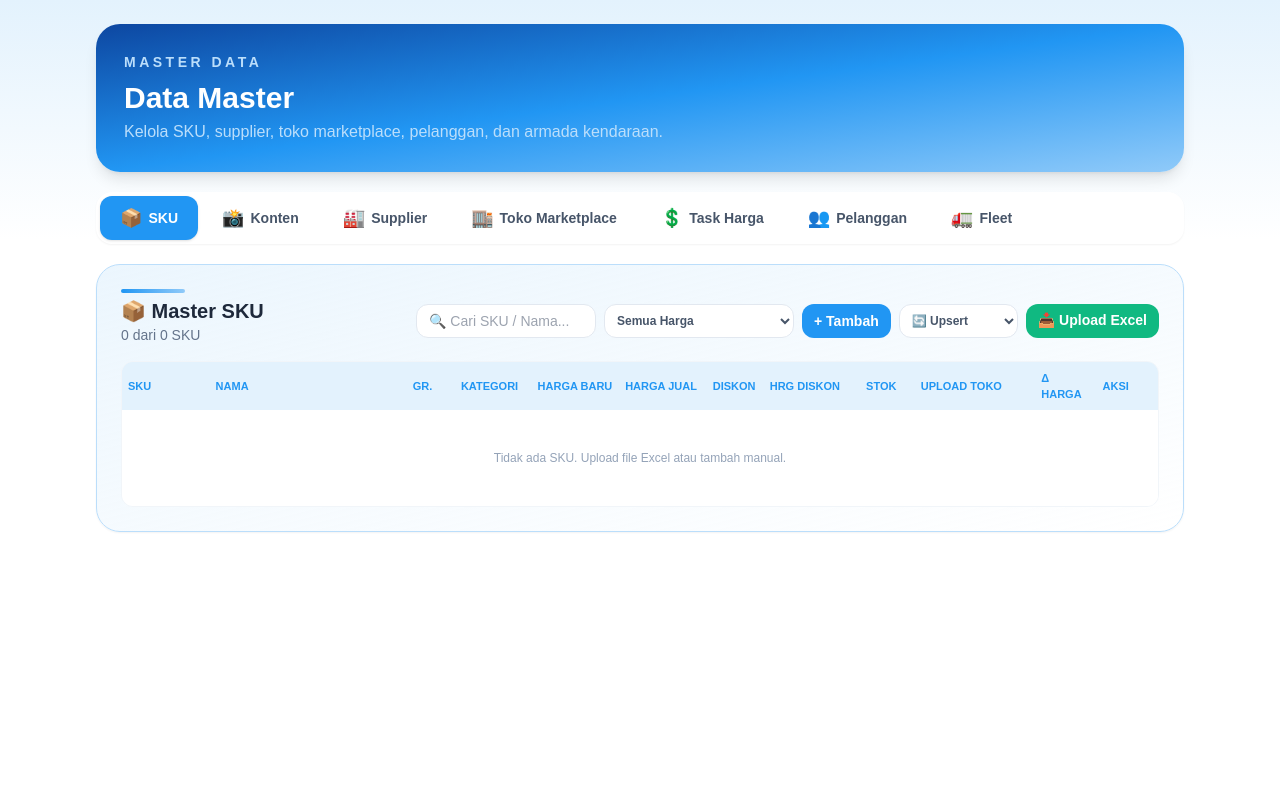
DataMasterPage › shows Konten SKU tab
The image size is (1280, 800).
What coordinates should you click on to do the following:
click the tab "📸 Konten"
I would click on:
 (260, 218)
Its box is top-left (202, 196), bottom-right (319, 240).
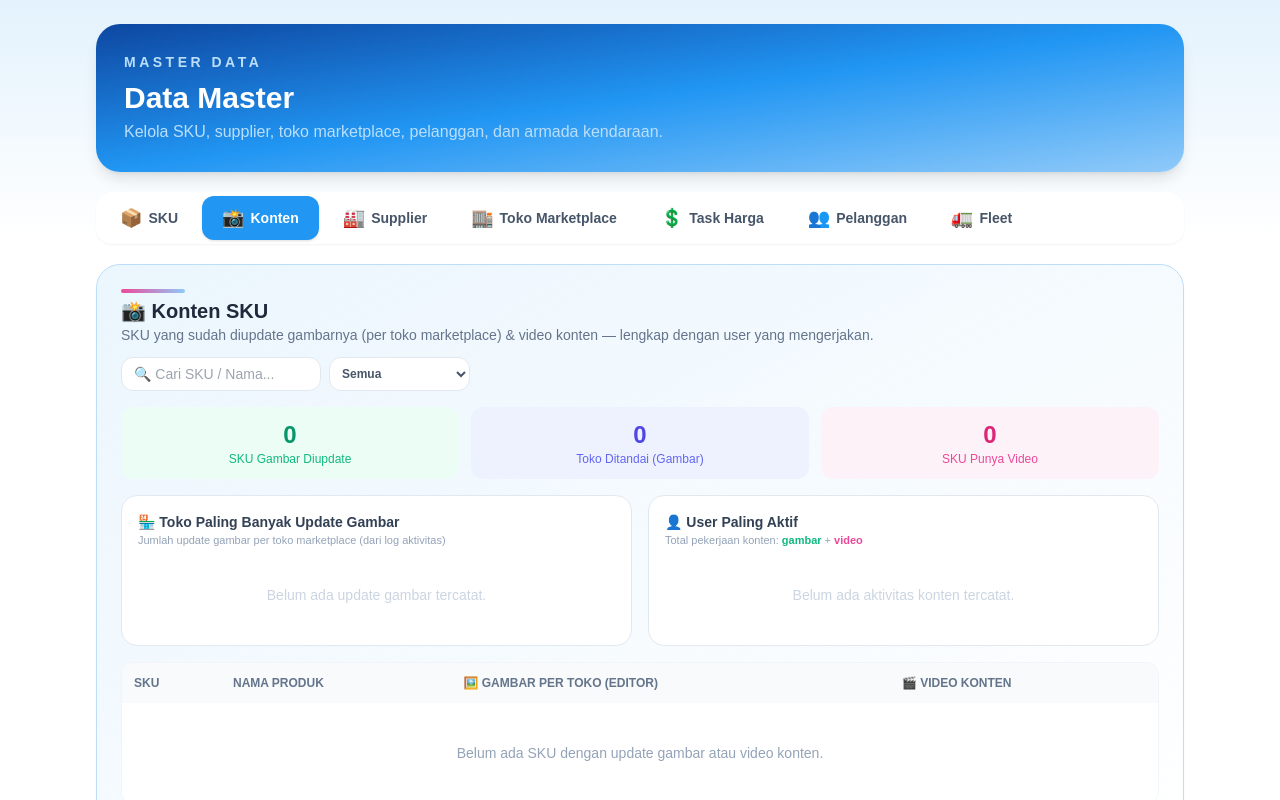
Result: the heading "📸 Konten SKU" is shown at top-left (121, 300), bottom-right (268, 322)
